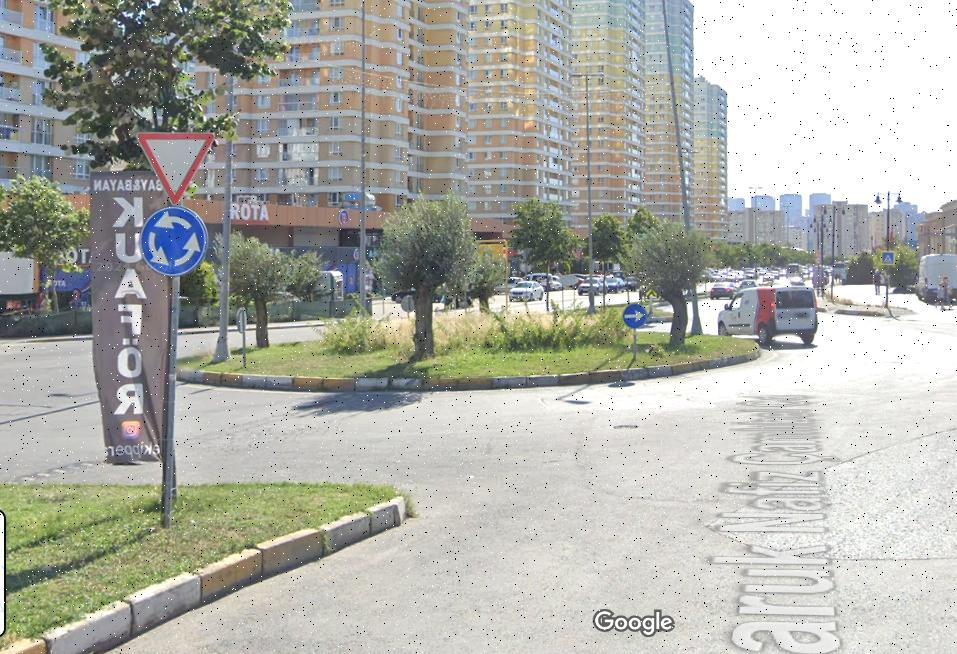crossroads: (137, 203, 214, 283)
turnright: (619, 302, 650, 331)
